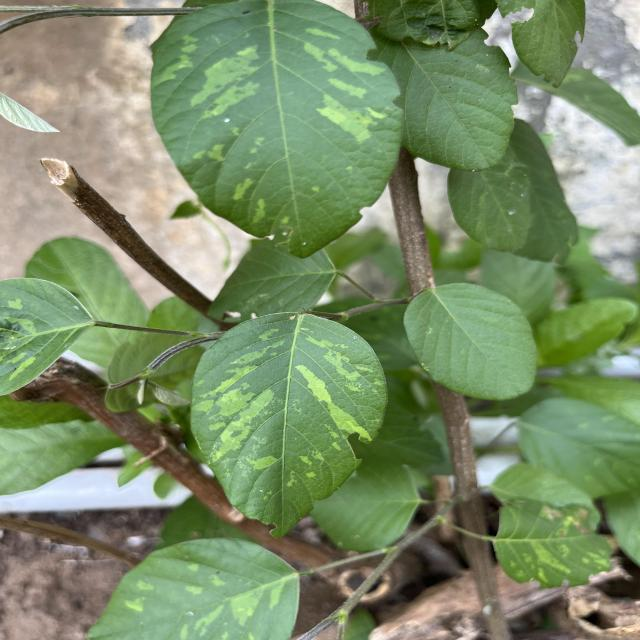Desmodium gangeticum: (187, 310, 391, 542)
